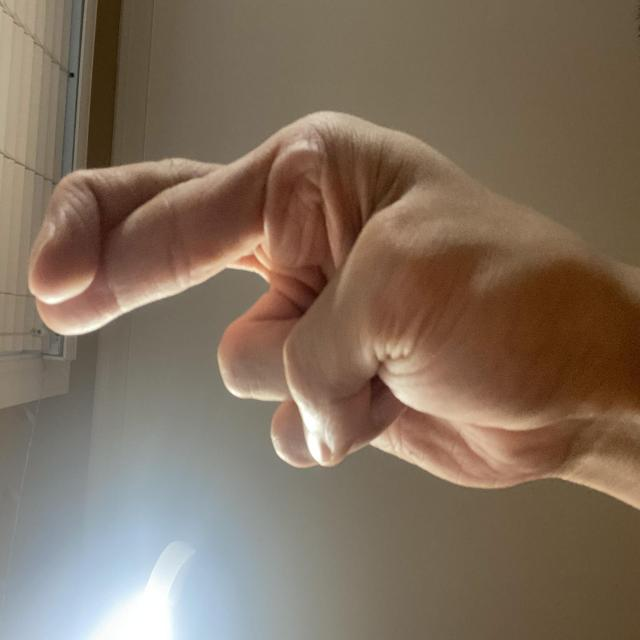R: (101, 25, 405, 640)
